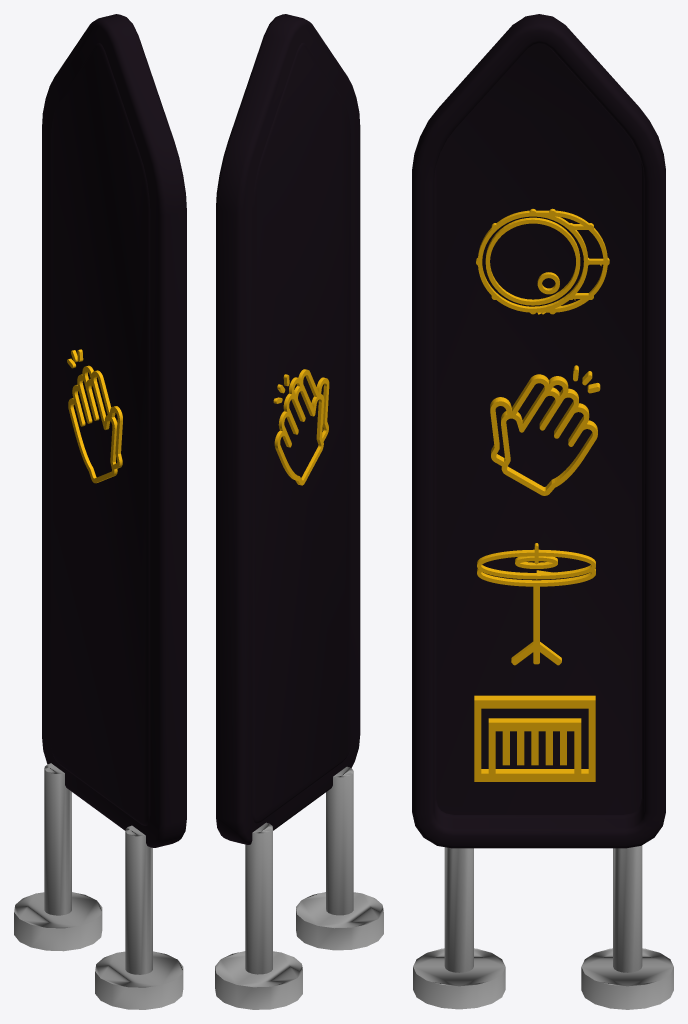
The model's file is neon-ad_draco.glb.
The picture shows the model from 3 angles, left to right: view 1: azimuth 30°, elevation 25°; view 2: azimuth 150°, elevation 25°; view 3: azimuth 270°, elevation 25°; orthographic projection. The views are drawn at different scales.
Parts seen in each view (by area): view 1: Plane, feet.001, feet, Curve.003; view 2: Plane, feet.001, feet, Curve.003; view 3: Plane, feet.001, feet, Curve, Curve.004, Curve.003, Curve.001.
Part boxes in pixels (left/top/right/bottom): Plane: left=42, top=14, right=186, bottom=847; feet.001: left=14, top=763, right=102, bottom=951; feet: left=95, top=825, right=183, bottom=1009; Curve.003: left=67, top=349, right=122, bottom=483; Plane: left=216, top=14, right=360, bottom=844; feet.001: left=215, top=822, right=302, bottom=1009; feet: left=296, top=766, right=383, bottom=950; Curve.003: left=273, top=369, right=329, bottom=485; Plane: left=412, top=14, right=665, bottom=848; feet.001: left=581, top=845, right=673, bottom=1009; feet: left=413, top=847, right=505, bottom=1009; Curve: left=474, top=695, right=595, bottom=781; Curve.004: left=476, top=208, right=609, bottom=314; Curve.003: left=490, top=365, right=600, bottom=495; Curve.001: left=477, top=543, right=595, bottom=665.
Size of the model in its own units: 0.5105 by 5.96 by 1.44.
